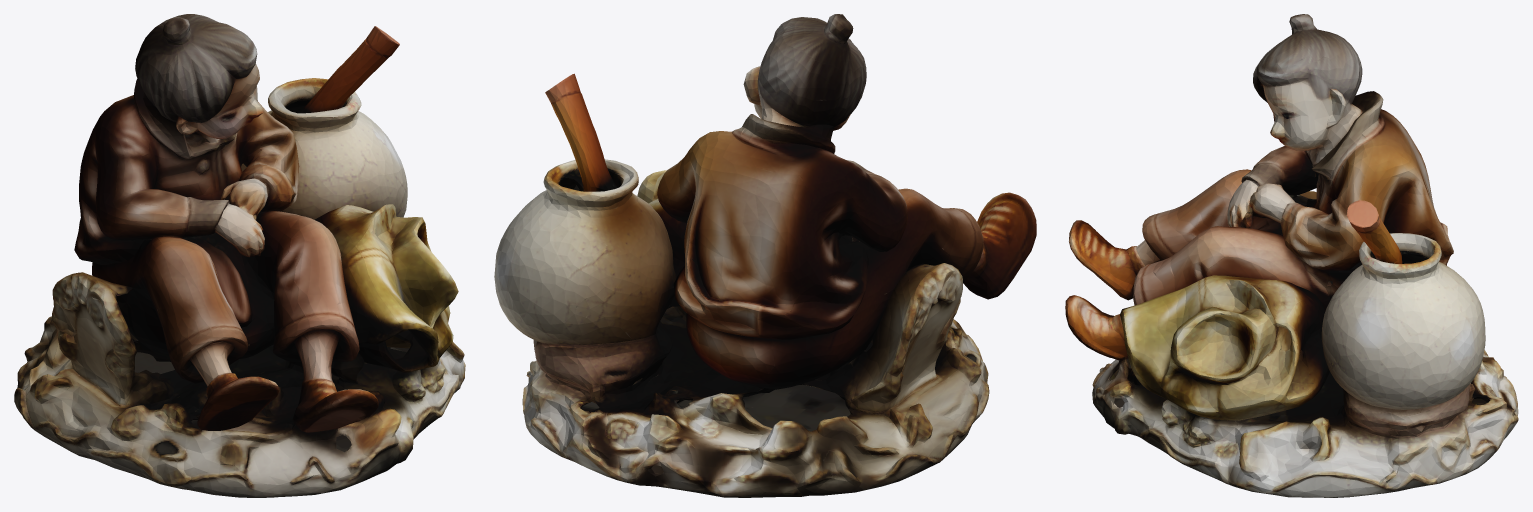
The model's file is porcelain-limited-edition-figurine-rustic.jpeg.glb.
3 renders of one model, left to right at view 1: azimuth 30°, elevation 25°; view 2: azimuth 150°, elevation 25°; view 3: azimuth 270°, elevation 25°, orthographic. The views are drawn at different scales.
Visible parts, largest first — view 1: world; view 2: world; view 3: world.
Boxes of the visible parts, x1=… form: world: x1=14, y1=14, x2=465, y2=497; world: x1=494, y1=14, x2=1036, y2=497; world: x1=1065, y1=14, x2=1518, y2=497.
Bounding box in the file's own units: 0.9172 × 0.8909 × 0.9958.
Materials: 1 (1 with a texture image).
